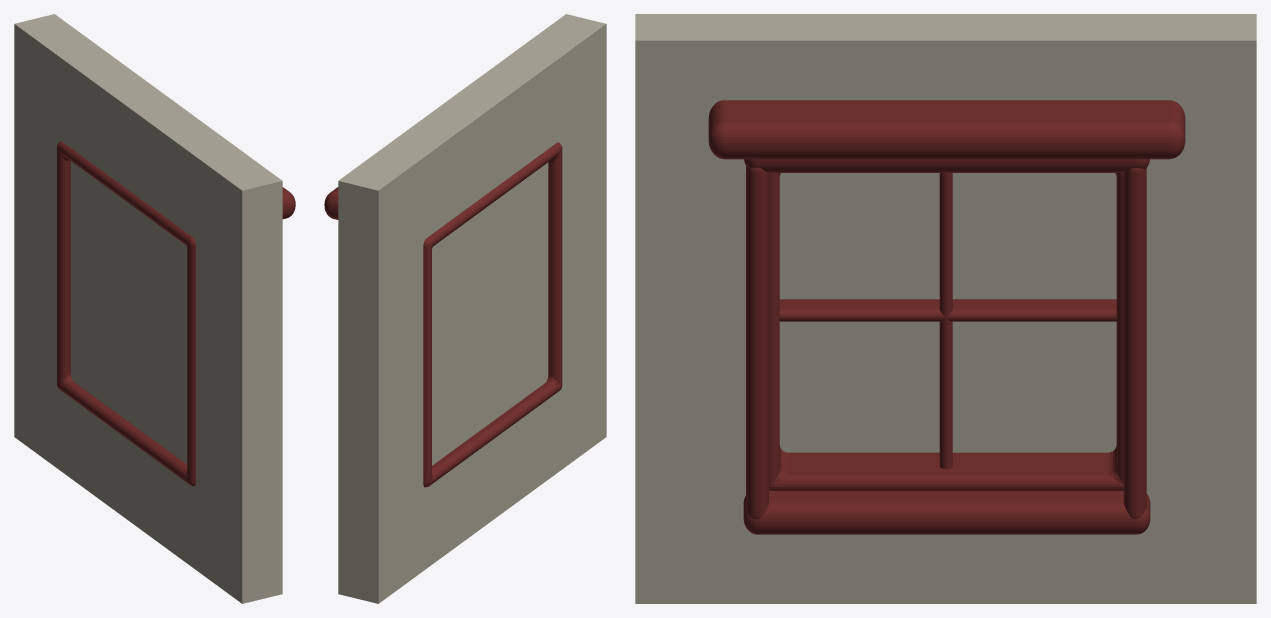
Rendered from wall_window_1x1.fbx.
The picture shows the model from 3 angles, left to right: view 1: azimuth 30°, elevation 25°; view 2: azimuth 150°, elevation 25°; view 3: azimuth 270°, elevation 25°; orthographic projection. The views are drawn at different scales.
Visible parts, largest first — view 1: wall_window_1x1; view 2: wall_window_1x1; view 3: wall_window_1x1.
Part boxes in pixels (bbox=[...]): wall_window_1x1: bbox=[14, 14, 295, 603]; wall_window_1x1: bbox=[324, 14, 606, 603]; wall_window_1x1: bbox=[635, 14, 1256, 603].
Size of the model in its own units: 22.53 by 99.82 by 99.82.
